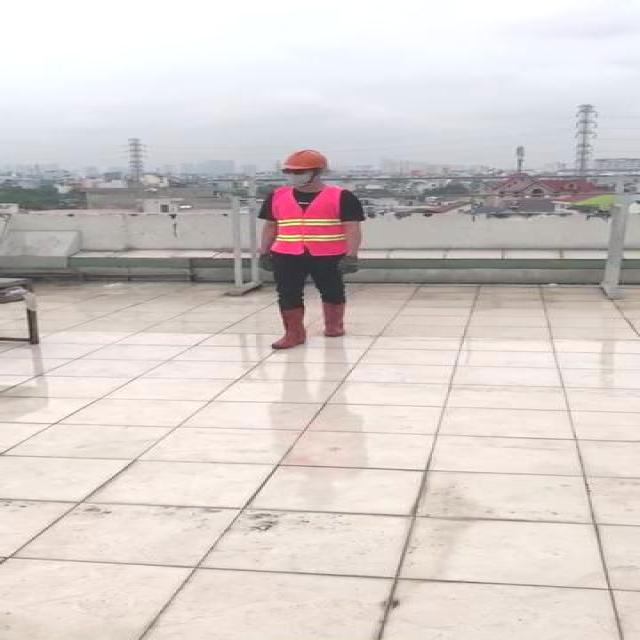boots: (272, 306, 306, 349), (322, 301, 348, 337)
face_mask: (282, 166, 317, 186)
glasses: (280, 166, 310, 177)
hand_glove: (338, 257, 361, 274), (256, 253, 277, 270)
head_helmet: (281, 148, 331, 170)
person: (254, 148, 368, 358)
vest: (272, 184, 345, 254)
